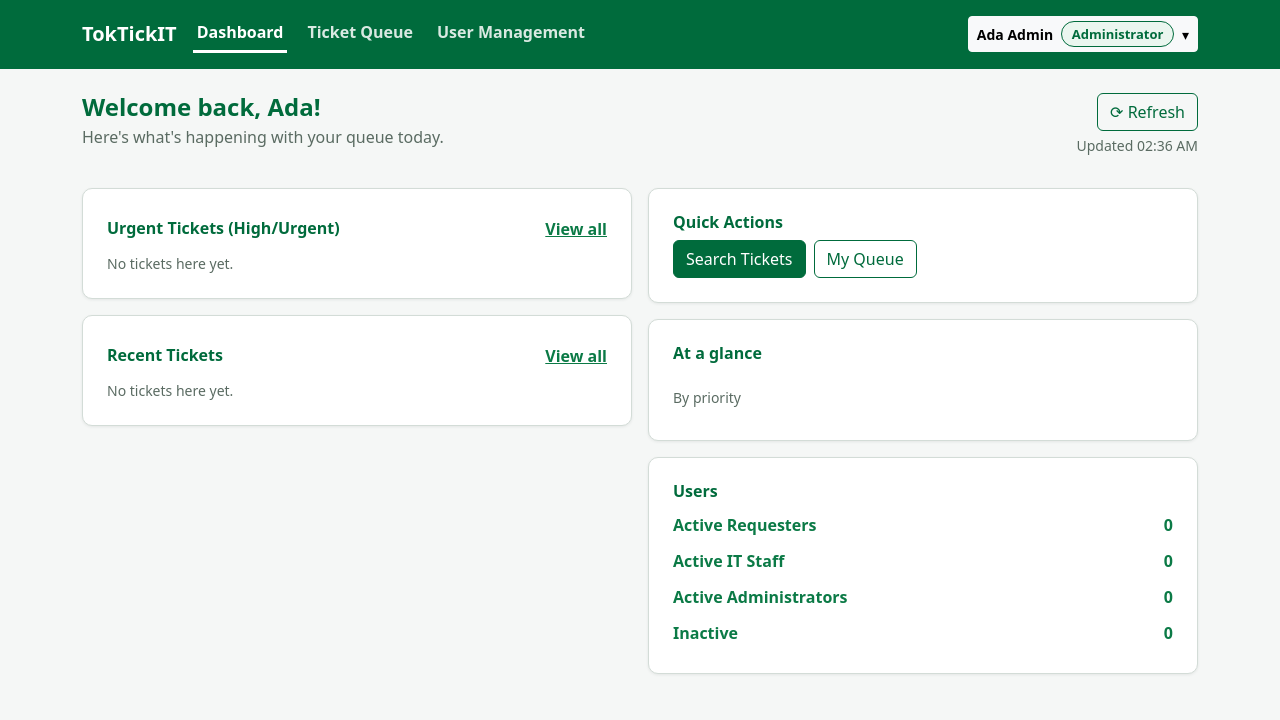
No broken links in the navigation › every Administrator nav destination renders its screen with no console errors
Expected: the heading "Welcome back, Ada!" is shown, [82, 90, 320, 123]
Click the button "Ticket Queue" at (360, 34), box [303, 16, 417, 53]
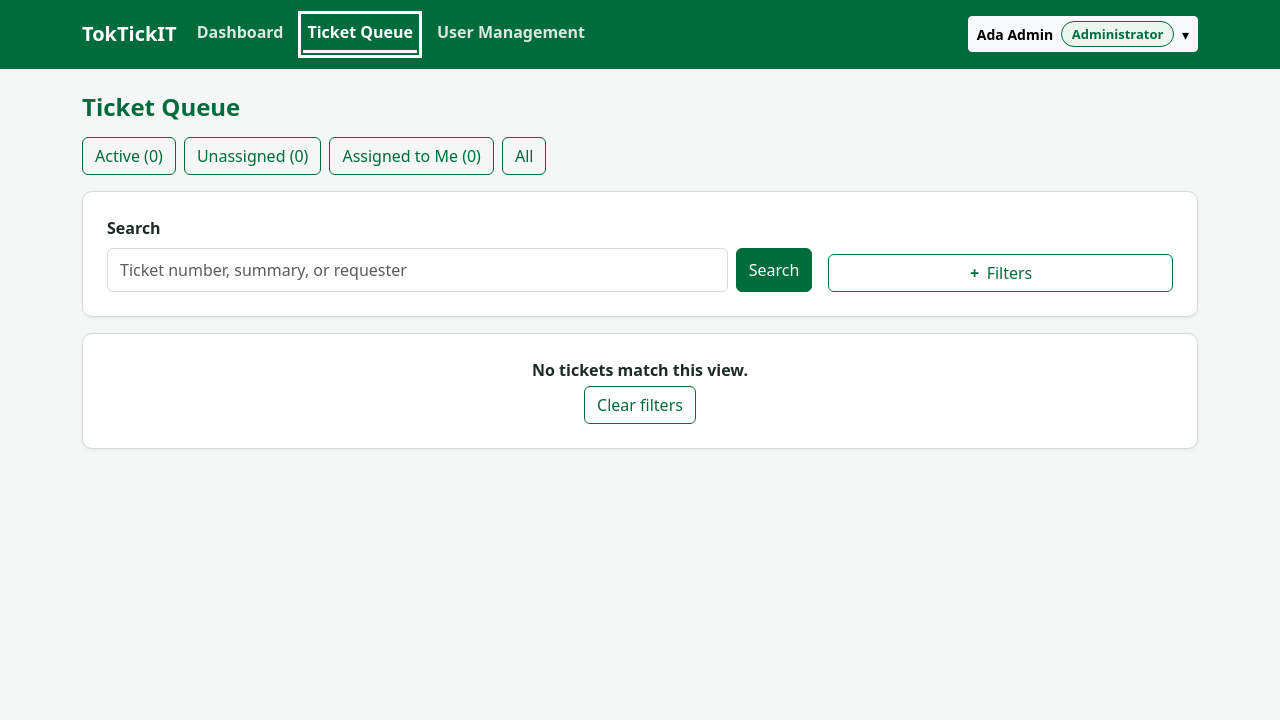
Now the heading "Ticket Queue" is shown, box [82, 90, 240, 123]
Click the button "User Management" at (511, 34), box [433, 16, 589, 53]
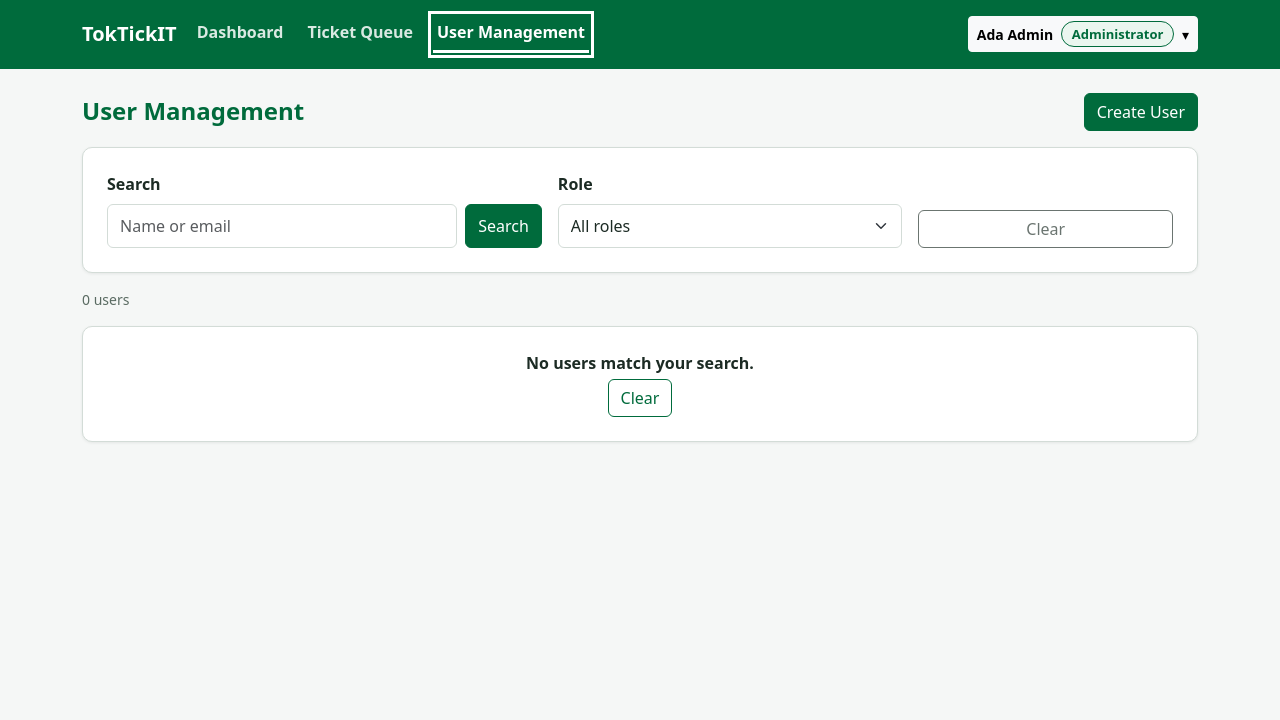
Now the heading "User Management" is shown, box [82, 97, 304, 126]
Click the button "Dashboard" at (240, 34), box [193, 16, 288, 53]
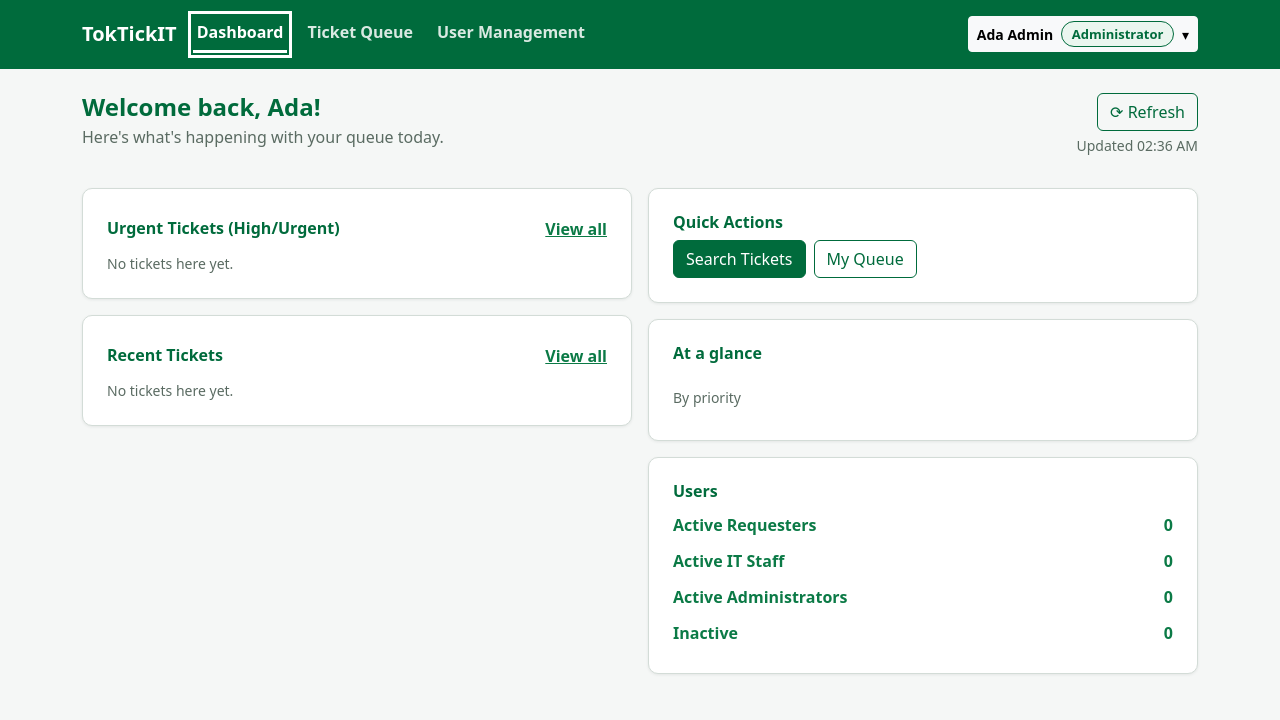
Now the heading "Welcome back, Ada!" is shown, box [82, 90, 320, 123]
